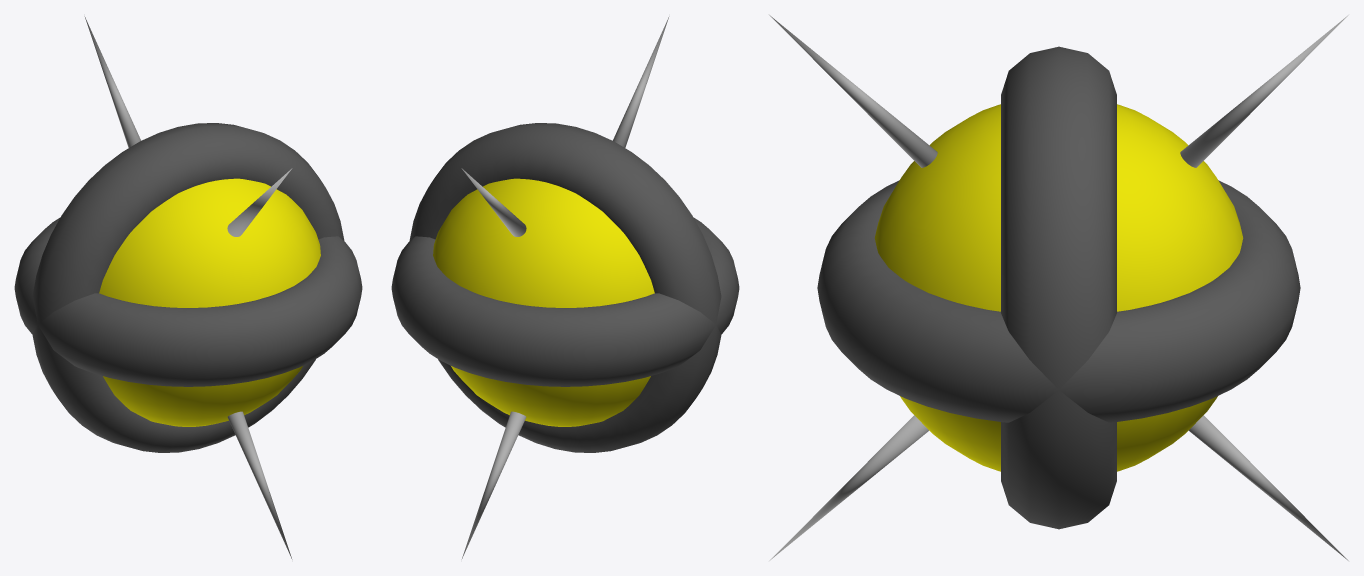
The model's file is PowerShip(Model).fbx.
3 renders of one model, left to right at view 1: azimuth 30°, elevation 25°; view 2: azimuth 150°, elevation 25°; view 3: azimuth 270°, elevation 25°, orthographic. The views are drawn at different scales.
Parts seen in each view (by area): view 1: PowerShip; view 2: PowerShip; view 3: PowerShip.
Boxes of the visible parts, x1,y1,x2,y2 form: PowerShip: (14, 16, 362, 559); PowerShip: (391, 16, 739, 559); PowerShip: (769, 15, 1348, 560).
Bounding box in the file's own units: 125 × 156 × 150.
